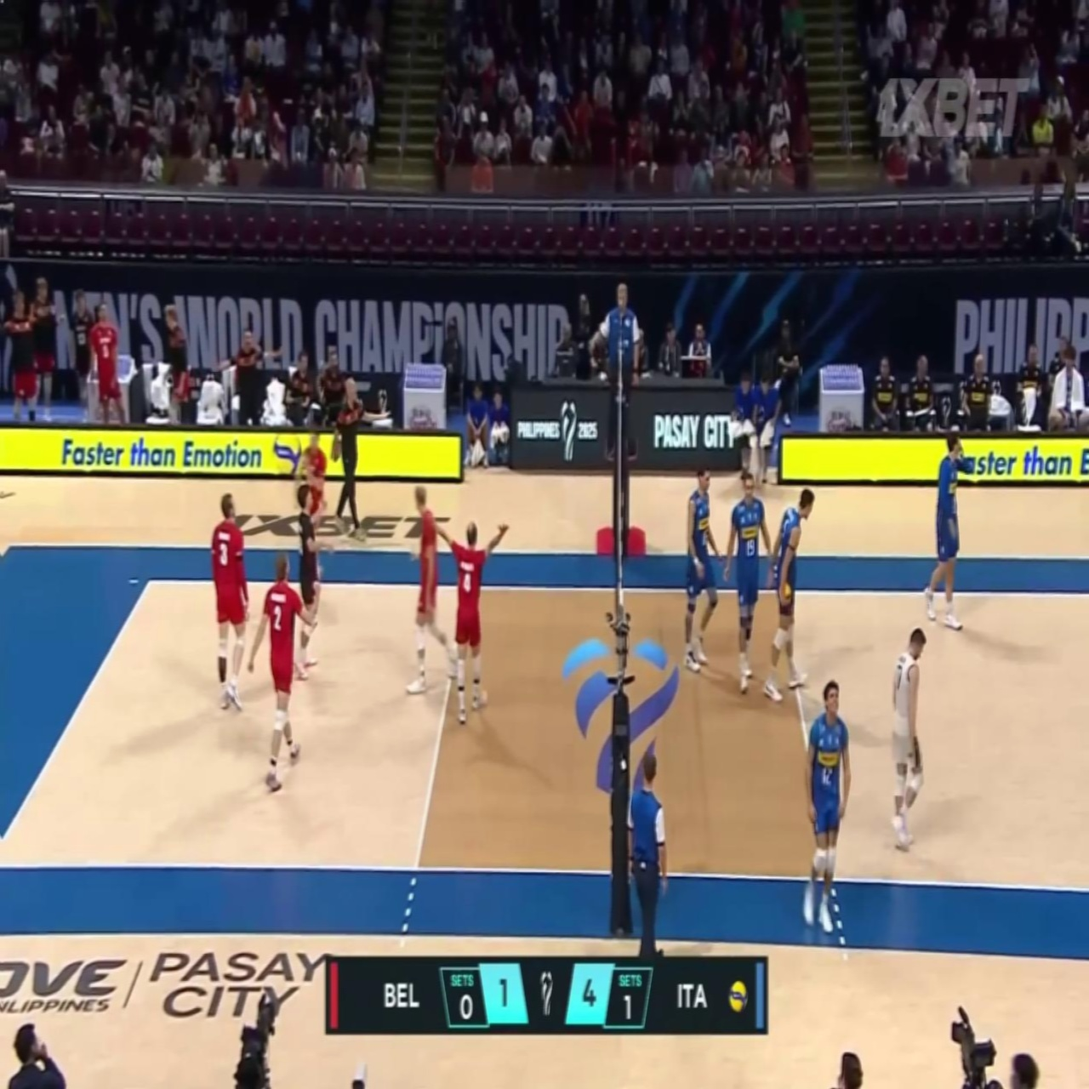ball: (778, 582, 790, 603)
